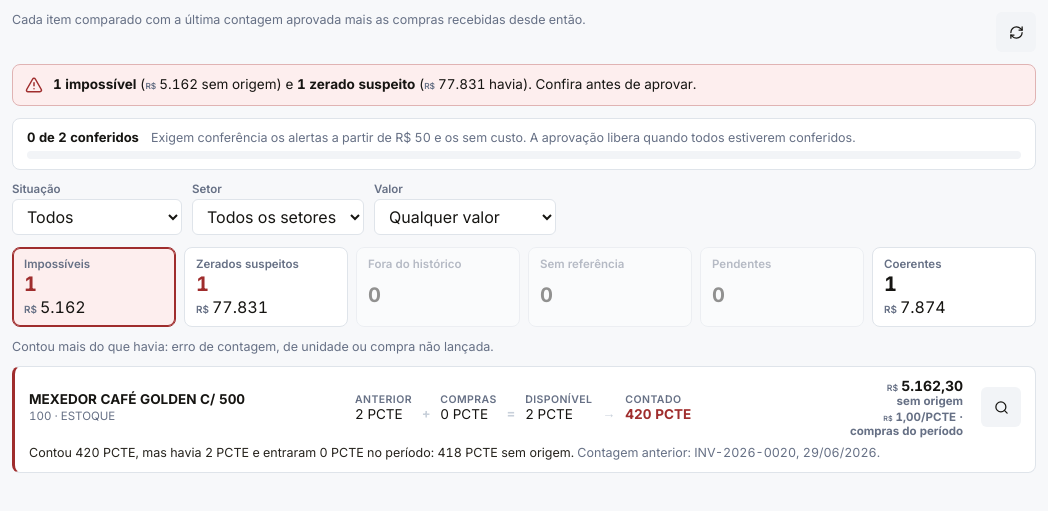
Test case: ConferenciaInventario › trocar de classe mostra os itens dela
Click the button "Zerados suspeitos 1 R$77.831". click: point(266, 287)
box: [184,247,348,327]
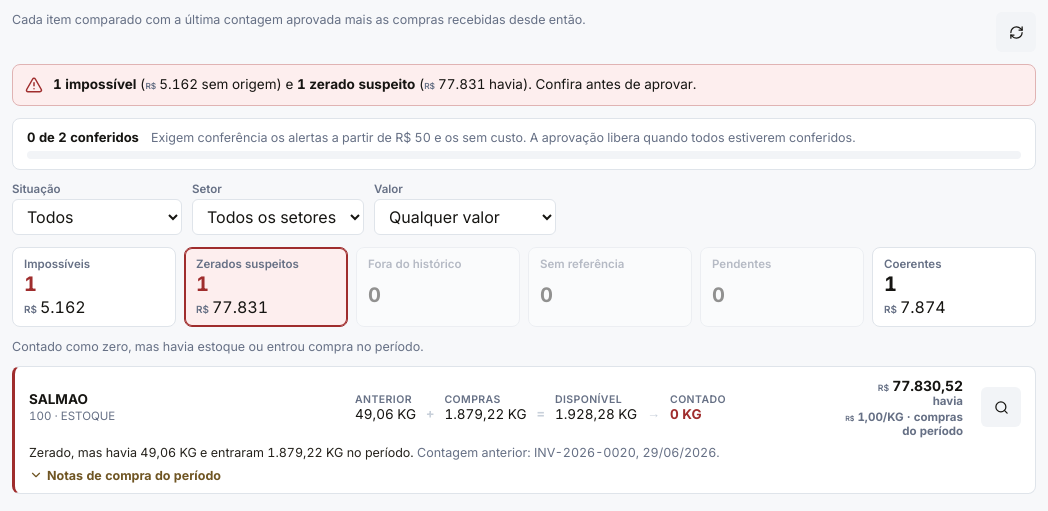
Expected: the text "SALMAO" is shown, [29,391,88,407]
Expected: the text "Zerado, mas havia 49,06 KG e entraram 1.879,22 KG" is shown, [29,445,414,460]
Expected: the text "MEXEDOR CAFÉ GOLDEN C/ 500" is gone
